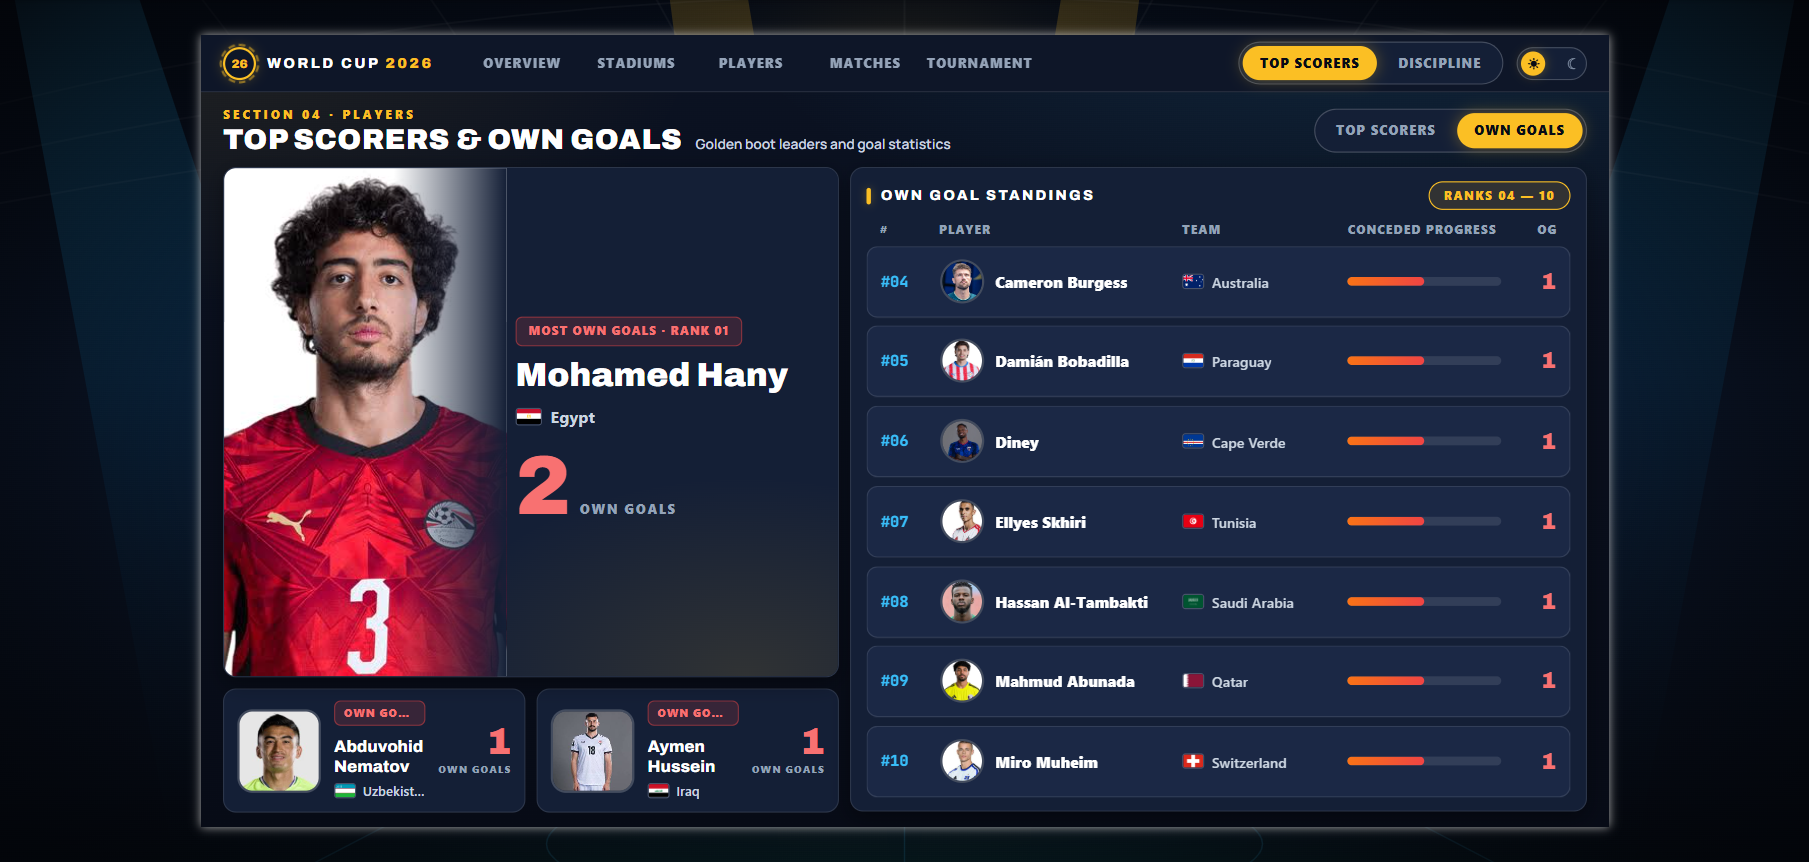

Layout of this report page (visuals, bound fields, positions):
{"tool":"powerbi","page":{"name":"Players Page","canvas":[1280,720],"ordinal":3},"visuals":[{"type":"htmlContent443BE3AD55E043BF878BED274D3A6855","fields":{"content":["HTML Visuals.Players_Page"]},"box":[0,0,1280,720],"z":0},{"type":"actionButton","title":"Tournament","box":[656,0,104,51],"z":1},{"type":"actionButton","title":"Matches","box":[552,0,104,51],"z":2},{"type":"actionButton","title":"Stadiums","box":[344,0,104,51],"z":4},{"type":"actionButton","title":"Overview","box":[240,0,104,51],"z":5}]}

Visuals, with their boxes on the page's 1280x720 design canvas (x1, y1, x2, y2). These are canvas units, not pixel positions in the 1809x862 screenshot, which may show the page scaled, cropped or inside an application window:
htmlContent443BE3AD55E043BF878BED274D3A6855 - HTML Visuals.Players_Page: Rect(0, 0, 1280, 720)
"Tournament" actionButton: Rect(656, 0, 760, 51)
"Matches" actionButton: Rect(552, 0, 656, 51)
"Stadiums" actionButton: Rect(344, 0, 448, 51)
"Overview" actionButton: Rect(240, 0, 344, 51)
